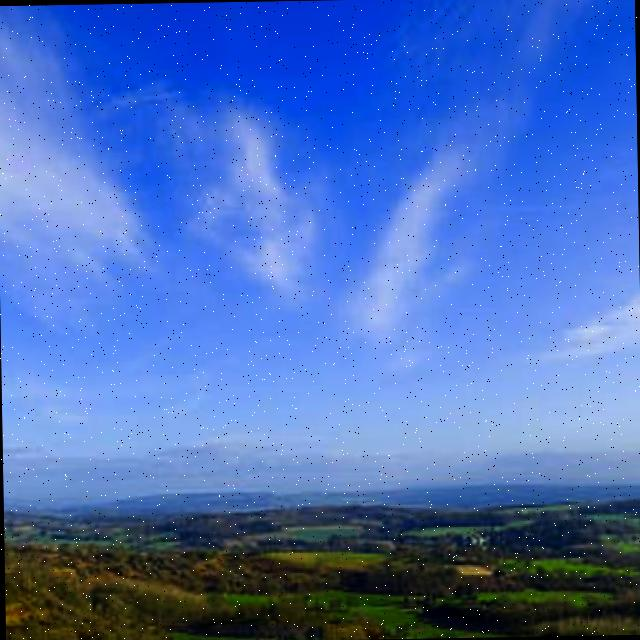Ci: (1, 1, 640, 437)
